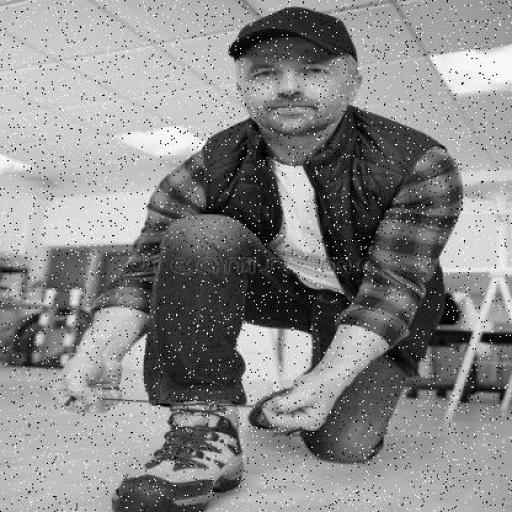person: (63, 5, 466, 505)
safety_shoe: (114, 400, 260, 511)
